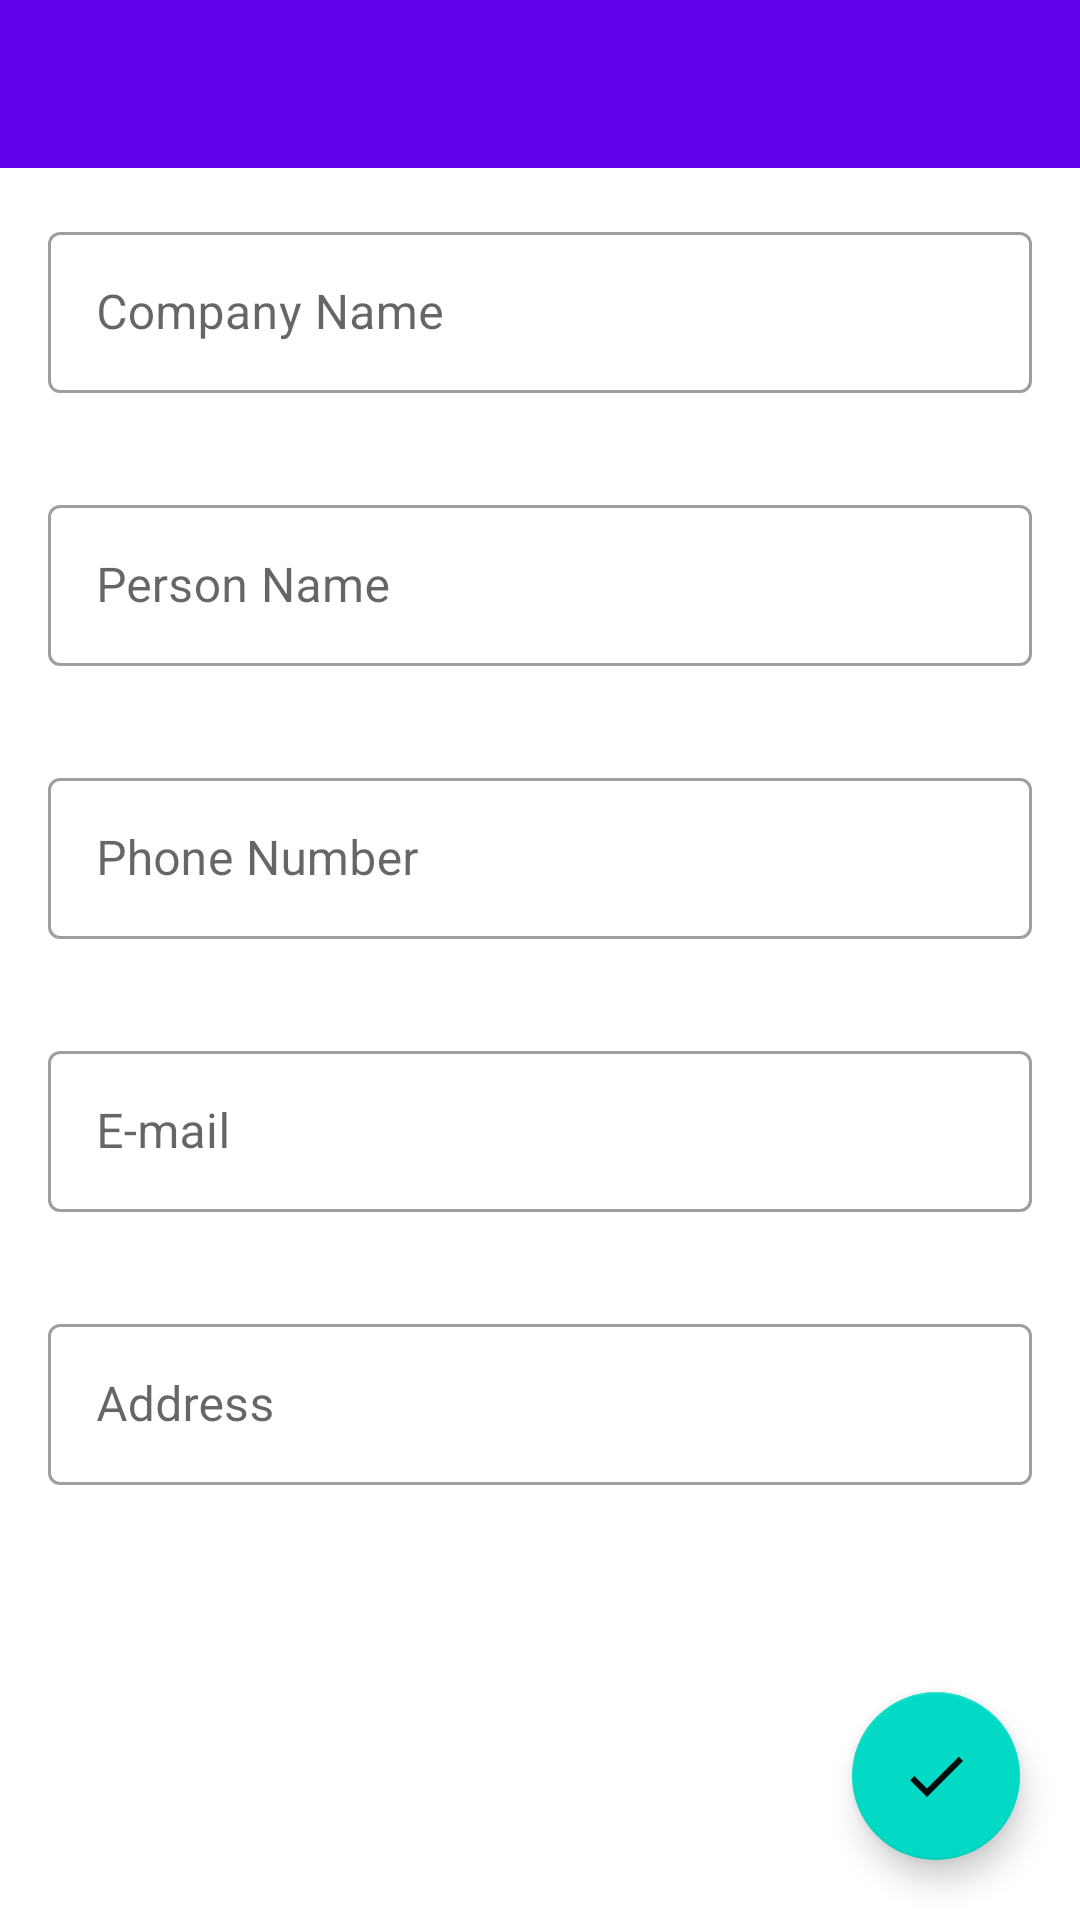

Icons on this 1080 × 1920 Android screen, each with the point to tap as (x,y):
Save: (936,1776)
